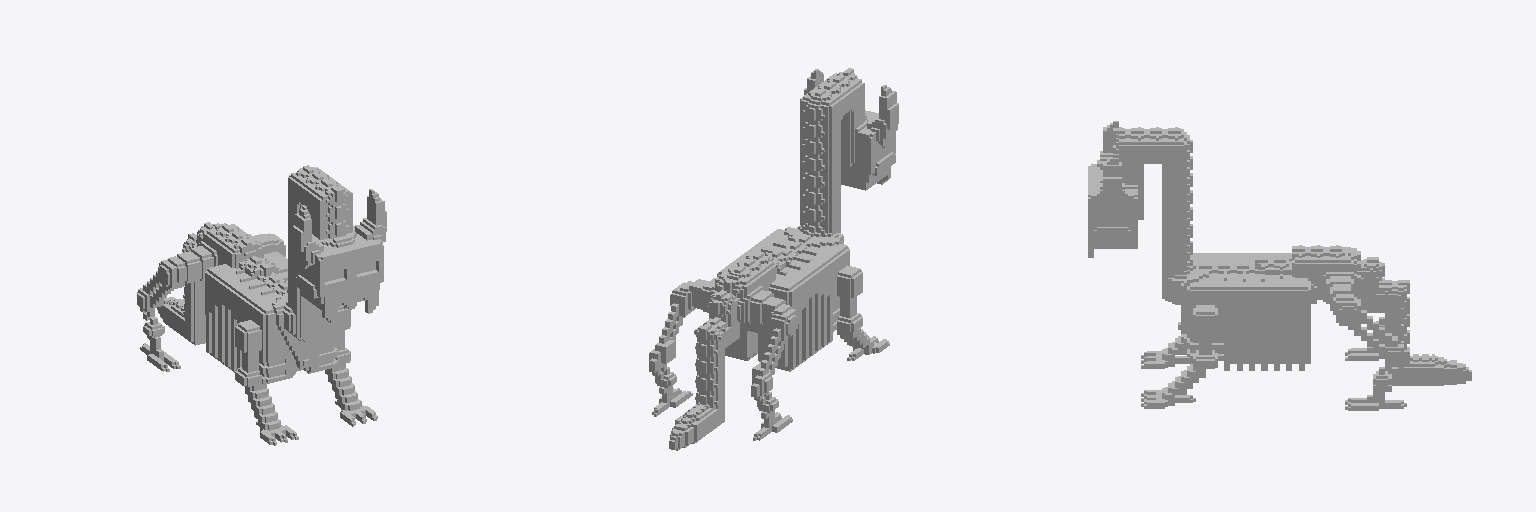
The model's file is Package 01 Necro Dungeon-11.obj.
3 renders of one model, left to right at view 1: azimuth 30°, elevation 25°; view 2: azimuth 150°, elevation 25°; view 3: azimuth 270°, elevation 25°, orthographic.
Parts seen in each view (by area): view 1: object 1; view 2: object 1; view 3: object 1.
Boxes of the visible parts, x1,y1,x2,y2 form: object 1: [137, 165, 386, 445]; object 1: [649, 68, 898, 450]; object 1: [1088, 121, 1471, 410].
Size of the model in its own units: 4.4 by 9 by 12.4.